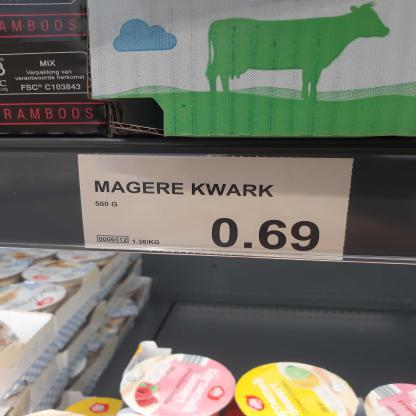prtg: (79, 156, 354, 261)
